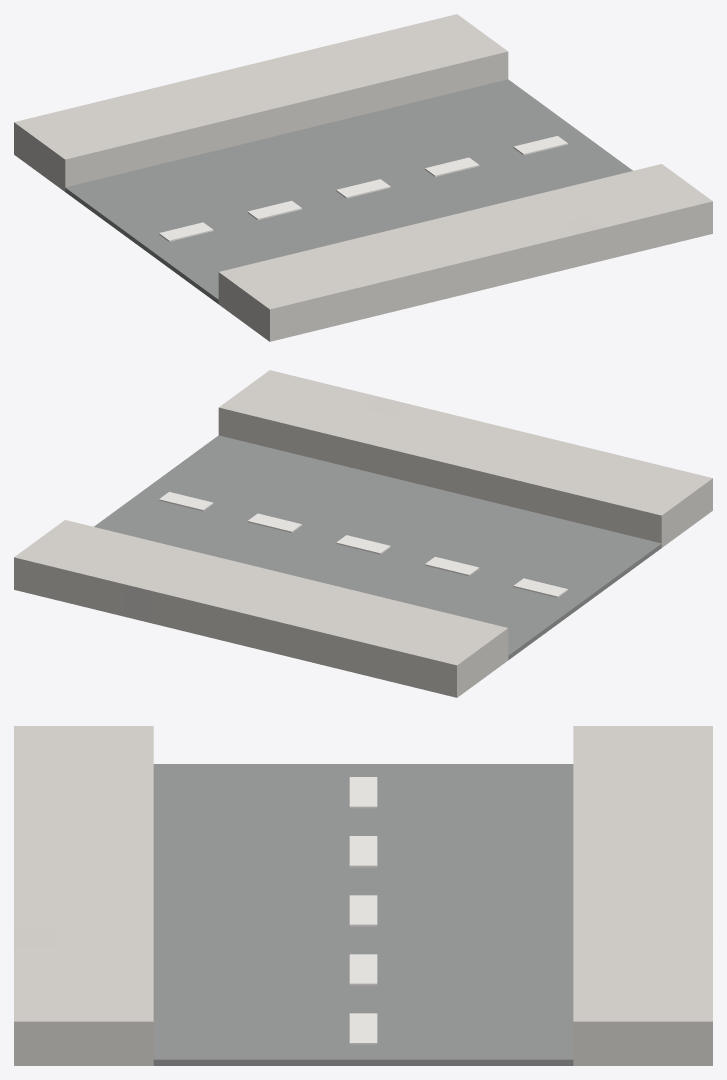
Rendered from road-straight.glb.
3 views of the same model, one above another, from view 1: azimuth 30°, elevation 25°; view 2: azimuth 150°, elevation 25°; view 3: azimuth 270°, elevation 25° (orthographic). The views are drawn at different scales.
Parts seen in each view (by area): view 1: sidewalk_north, road, centre_dash_0; view 2: sidewalk_north, road, centre_dash_0; view 3: road, sidewalk_north, centre_dash_0.
Boxes of the visible parts, box(x1,y1,x2,y2) form: sidewalk_north: box(14, 14, 712, 341); road: box(65, 79, 632, 303); centre_dash_0: box(159, 136, 567, 241); sidewalk_north: box(14, 370, 712, 697); road: box(94, 435, 661, 659); centre_dash_0: box(159, 492, 567, 597); road: box(153, 764, 573, 1065); sidewalk_north: box(14, 726, 712, 1065); centre_dash_0: box(349, 777, 377, 1044).
Bounding box in the file's own units: 2 × 0.14 × 2.
Materials: 3 (2 with a texture image).
